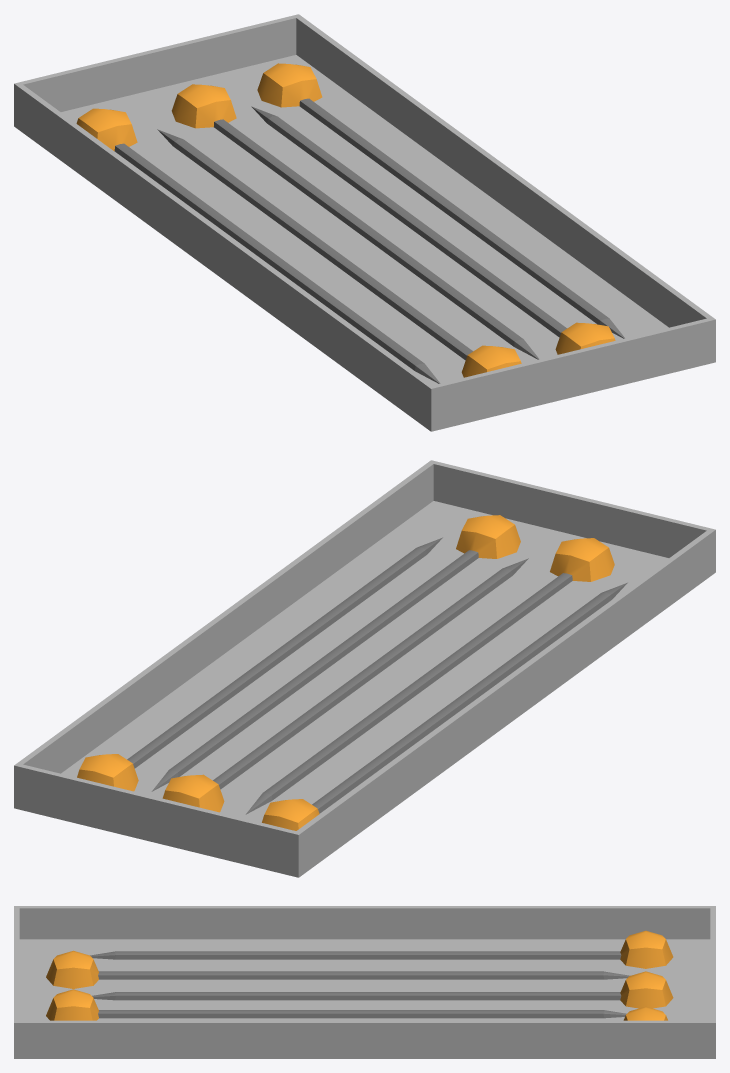
File: pin-box.fbx
3 renders of one model, top to bottom at view 1: azimuth 30°, elevation 25°; view 2: azimuth 150°, elevation 25°; view 3: azimuth 270°, elevation 25°, orthographic. The views are drawn at different scales.
Visible parts, largest first — view 1: pin-box; view 2: pin-box; view 3: pin-box.
Part boxes in pixels (<box>): pin-box: <box>14,14,715,431</box>; pin-box: <box>14,460,715,877</box>; pin-box: <box>14,906,715,1058</box>.
Size of the model in its own units: 2.48 by 0.3562 by 6.29.
7 materials, 2 textured.
